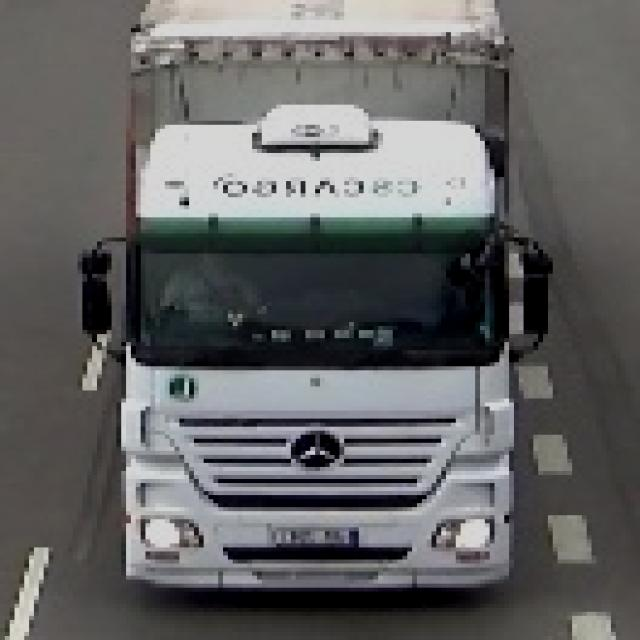TRUCK: (85, 0, 550, 620)
